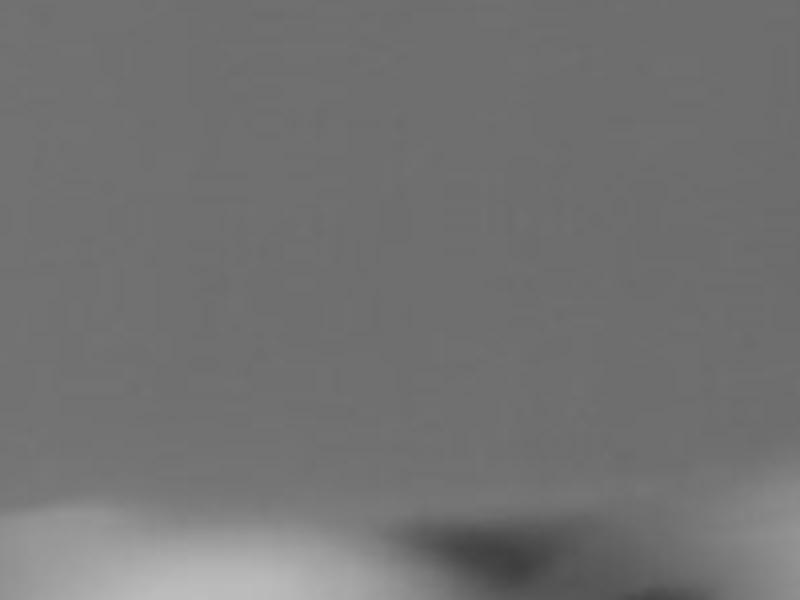defect: (423, 521, 566, 579)
